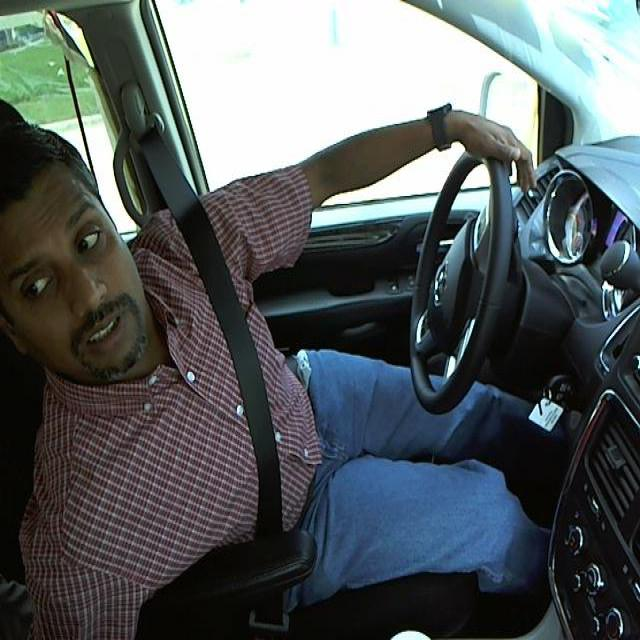seatbelt: (161, 188, 319, 607)
